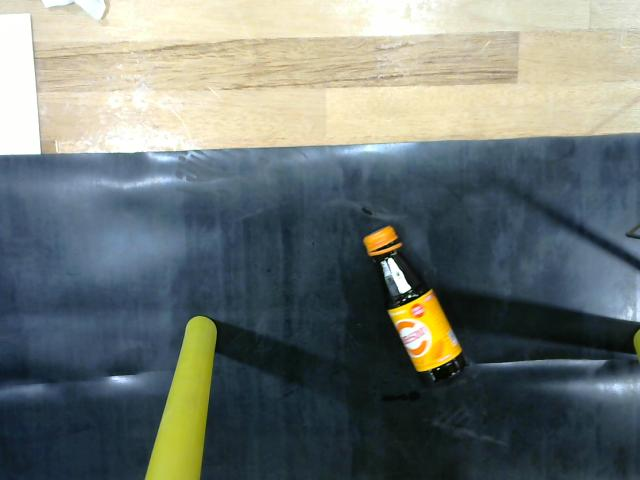glass: (354, 214, 482, 393)
